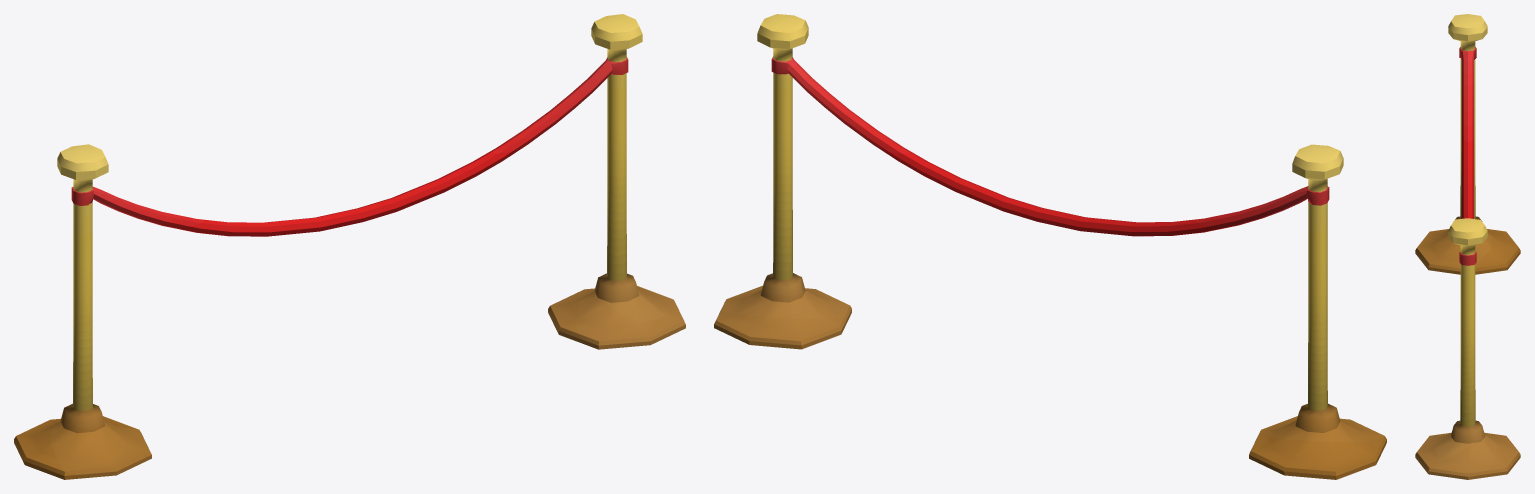
File: stanchion.fbx
The picture shows the model from 3 angles, left to right: view 1: azimuth 30°, elevation 25°; view 2: azimuth 150°, elevation 25°; view 3: azimuth 270°, elevation 25°; orthographic projection. The views are drawn at different scales.
Visible parts, largest first — view 1: pCube4; view 2: pCube4; view 3: pCube4.
Part boxes in pixels (bbox=[...]): pCube4: bbox=[14, 14, 685, 479]; pCube4: bbox=[714, 14, 1386, 479]; pCube4: bbox=[1415, 14, 1520, 479].
Size of the model in its own units: 97.44 by 42.9 by 17.44.
